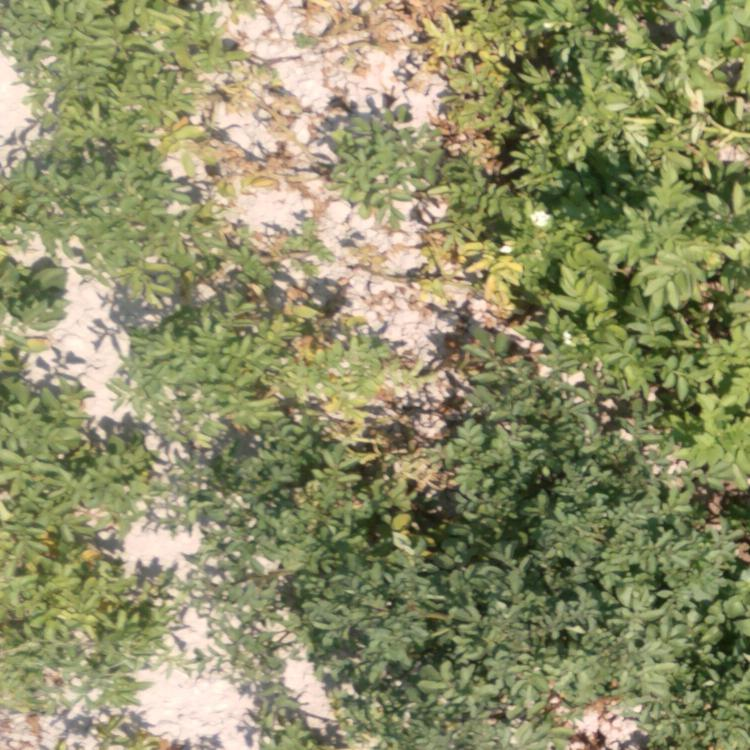healthy: (466, 380, 750, 744), (237, 448, 458, 746), (576, 4, 743, 378), (1, 349, 125, 741), (1, 1, 107, 319)
stressed: (331, 1, 568, 297), (114, 1, 289, 260), (145, 299, 374, 438)
